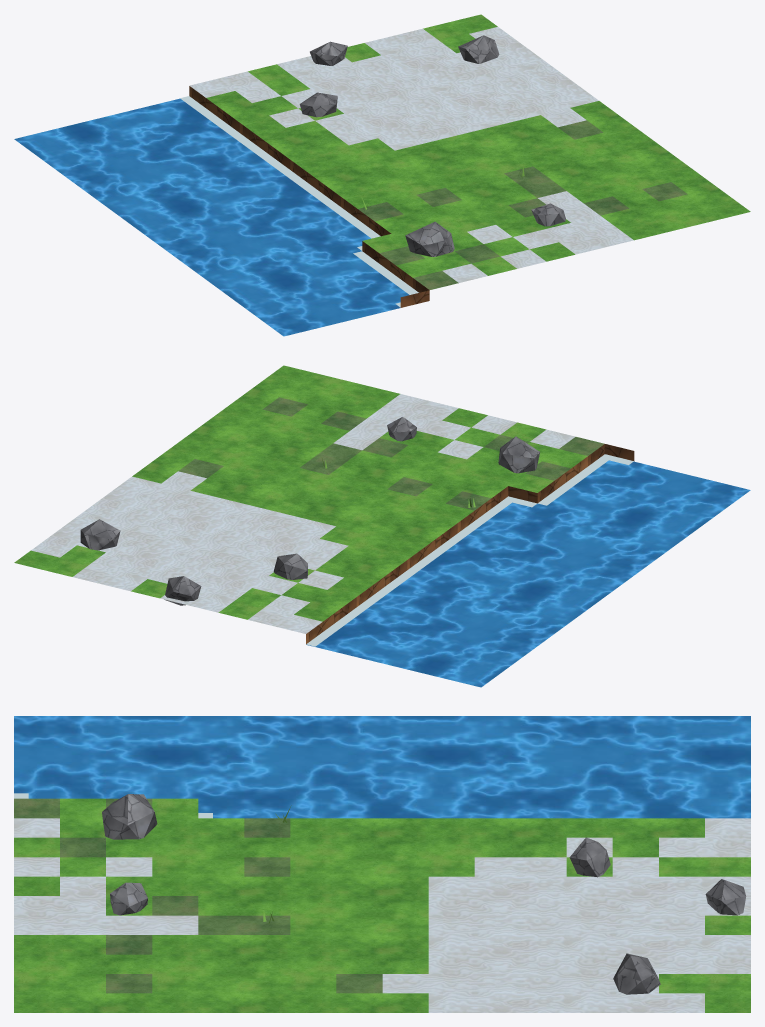
Rendered from chunk_4_1.glb.
The picture shows the model from 3 angles, top to bottom: view 1: azimuth 30°, elevation 25°; view 2: azimuth 150°, elevation 25°; view 3: azimuth 270°, elevation 25°; orthographic projection. The views are drawn at different scales.
Visible parts, largest first — view 1: chunk_4_1; view 2: chunk_4_1; view 3: chunk_4_1.
Boxes of the visible parts, x1=… form: chunk_4_1: x1=14, y1=14, x2=750, y2=336; chunk_4_1: x1=14, y1=365, x2=750, y2=687; chunk_4_1: x1=14, y1=716, x2=750, y2=1012.
Size of the model in its own units: 16 by 1.32 by 16.
9 materials, 7 textured.
